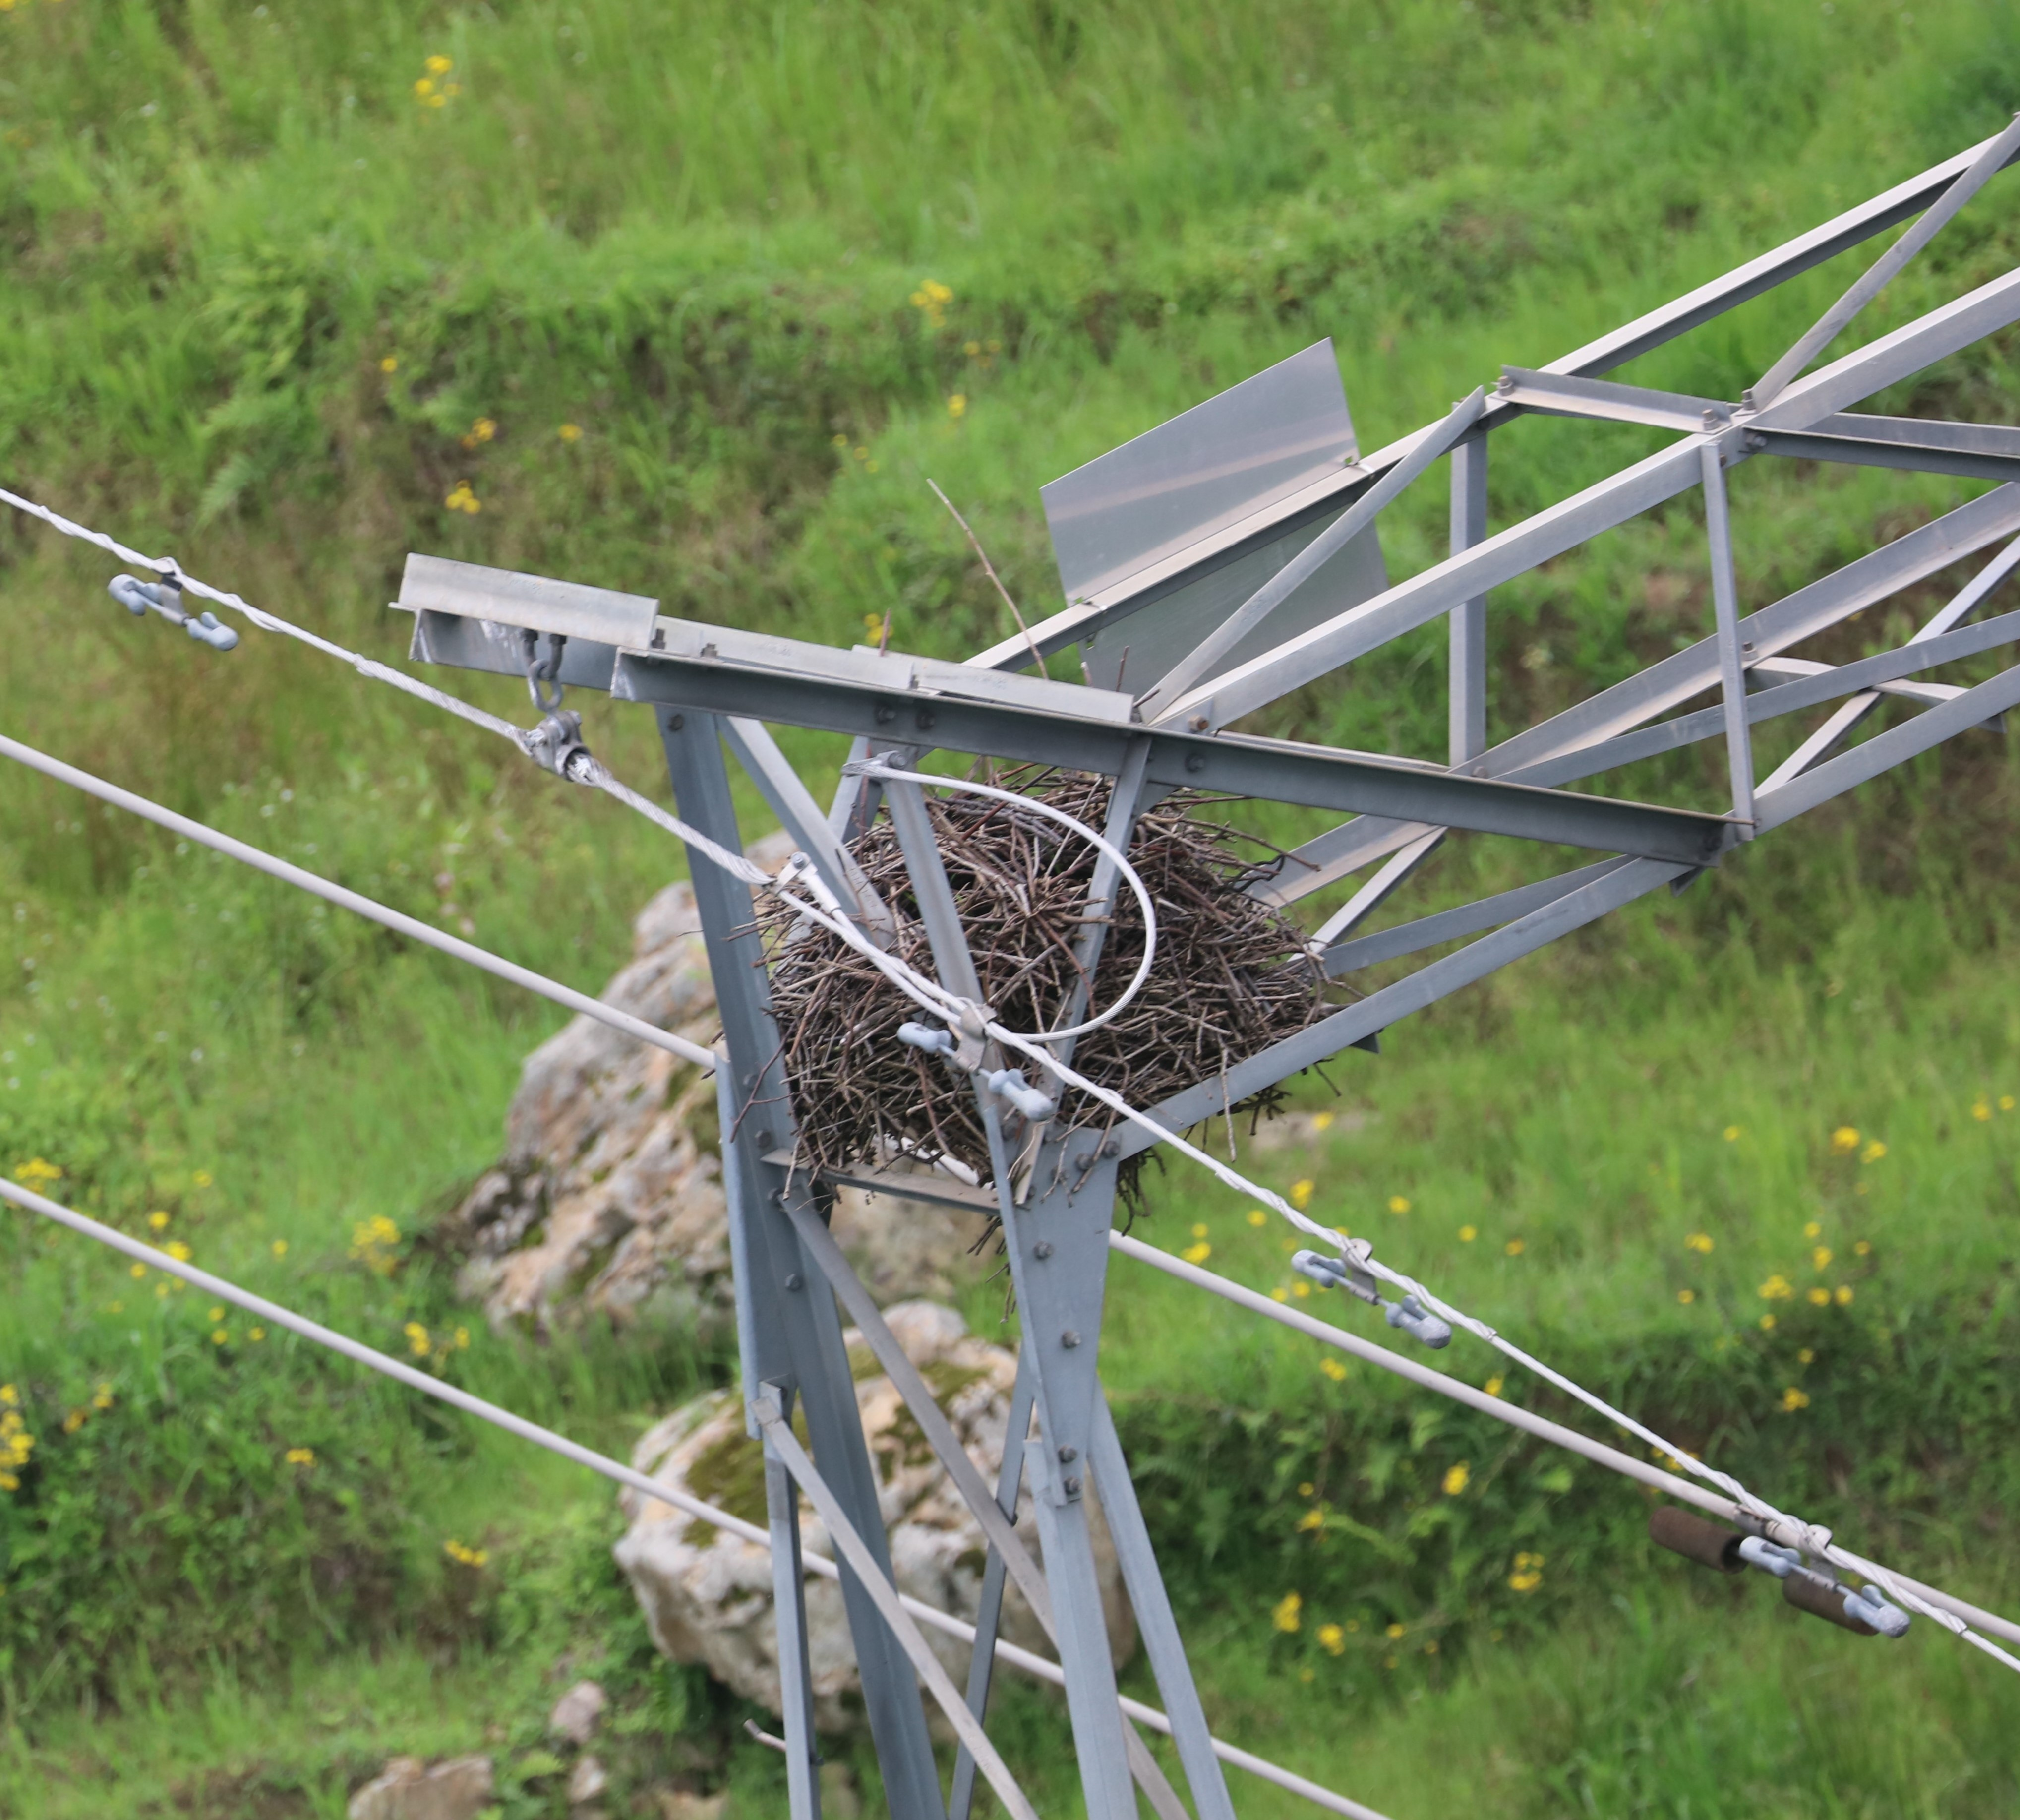niaowo: (729, 764, 1356, 1216)
